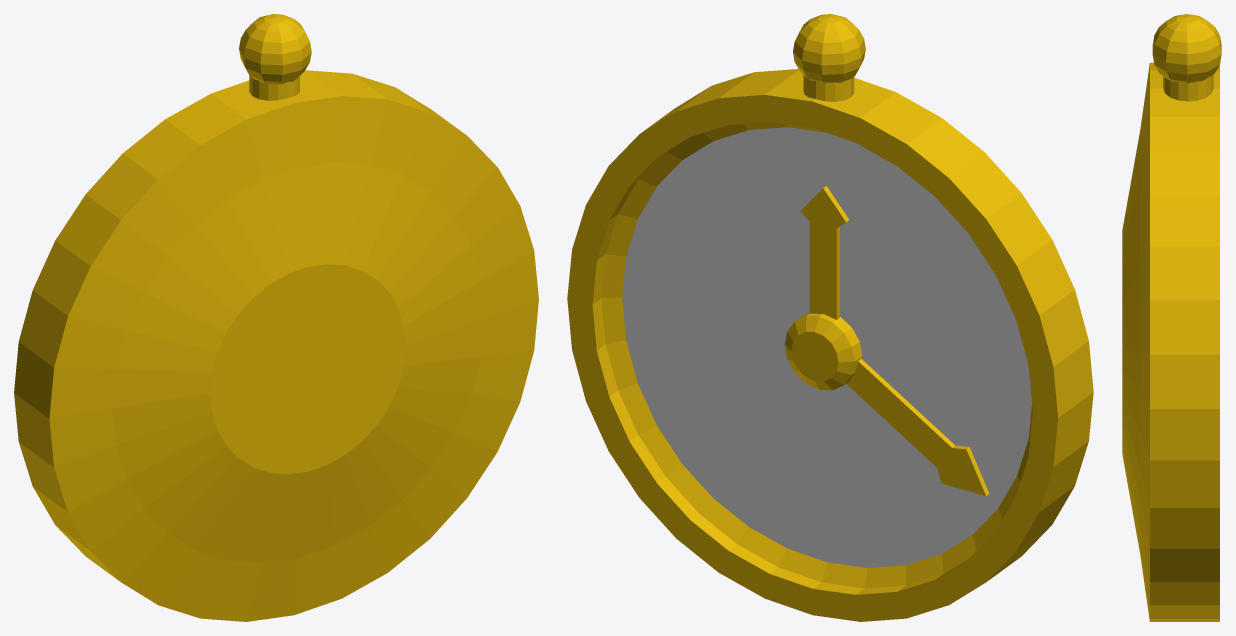
Rendered from clock.fbx.
The picture shows the model from 3 angles, left to right: view 1: azimuth 30°, elevation 25°; view 2: azimuth 150°, elevation 25°; view 3: azimuth 270°, elevation 25°; orthographic projection.
Parts seen in each view (by area): view 1: Circle.001; view 2: Circle.001; view 3: Circle.001.
Part boxes in pixels (x1,y1,x2,y2): Circle.001: (14,14,538,621); Circle.001: (567,14,1093,621); Circle.001: (1122,14,1221,621).
Bounding box in the file's own units: 200 × 228 × 35.48.
